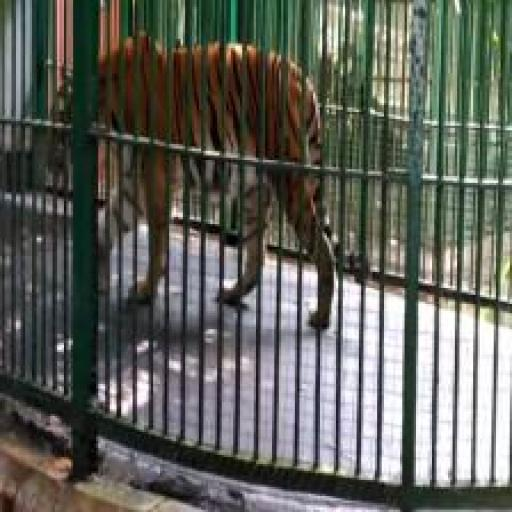Tiger: (37, 25, 346, 351)
